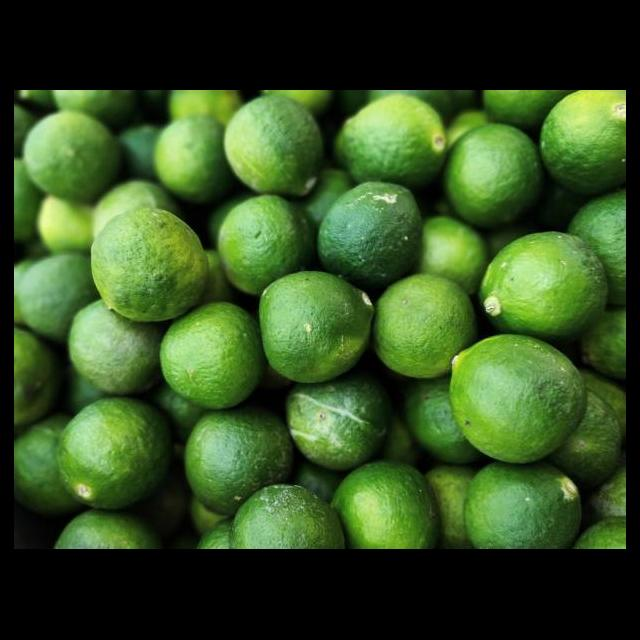lime: (90, 208, 214, 324), (316, 182, 426, 298), (282, 370, 393, 474)
